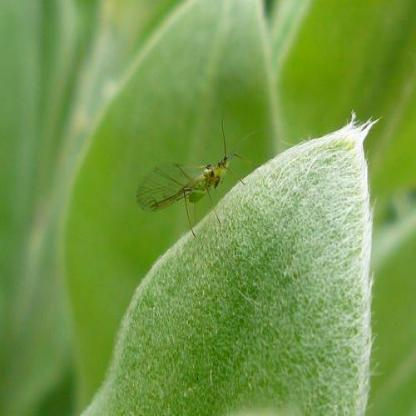aphid: (133, 118, 247, 233)
